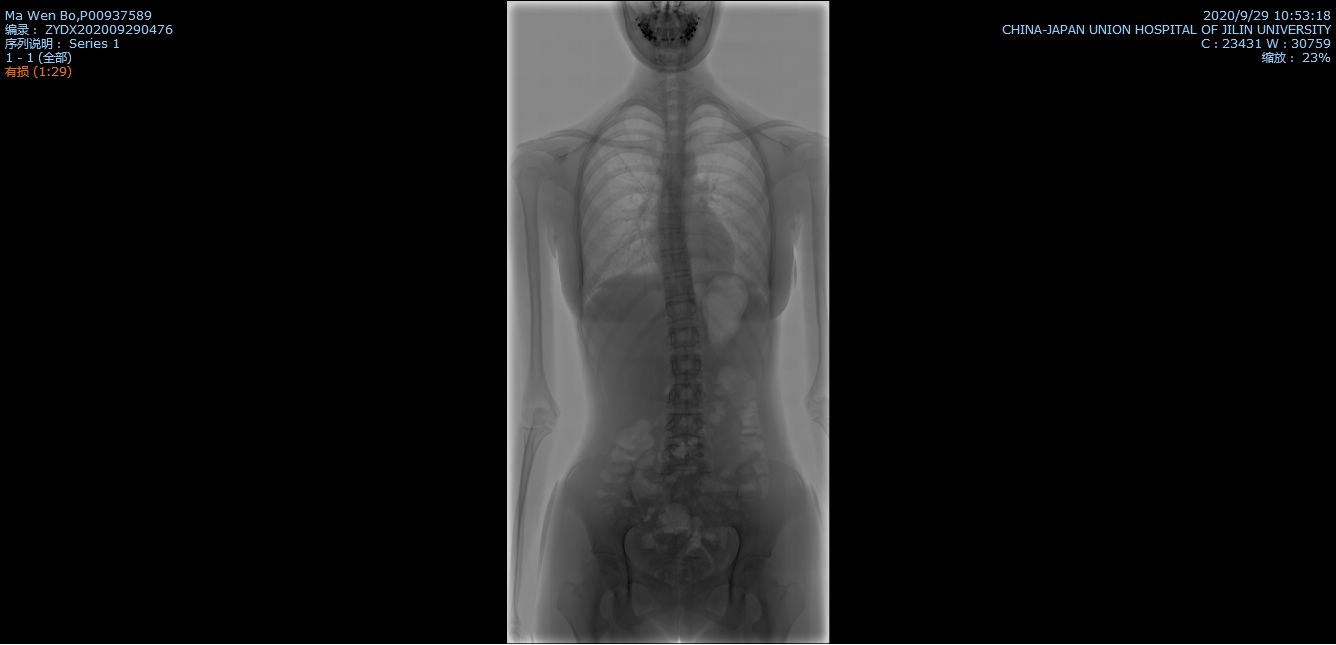Bone: (667, 446, 704, 467), (668, 414, 703, 436), (671, 355, 704, 374), (672, 384, 701, 404), (661, 253, 691, 271), (666, 303, 698, 319), (670, 330, 699, 347), (663, 278, 693, 294), (659, 213, 684, 230), (661, 191, 684, 209), (661, 234, 684, 249)
